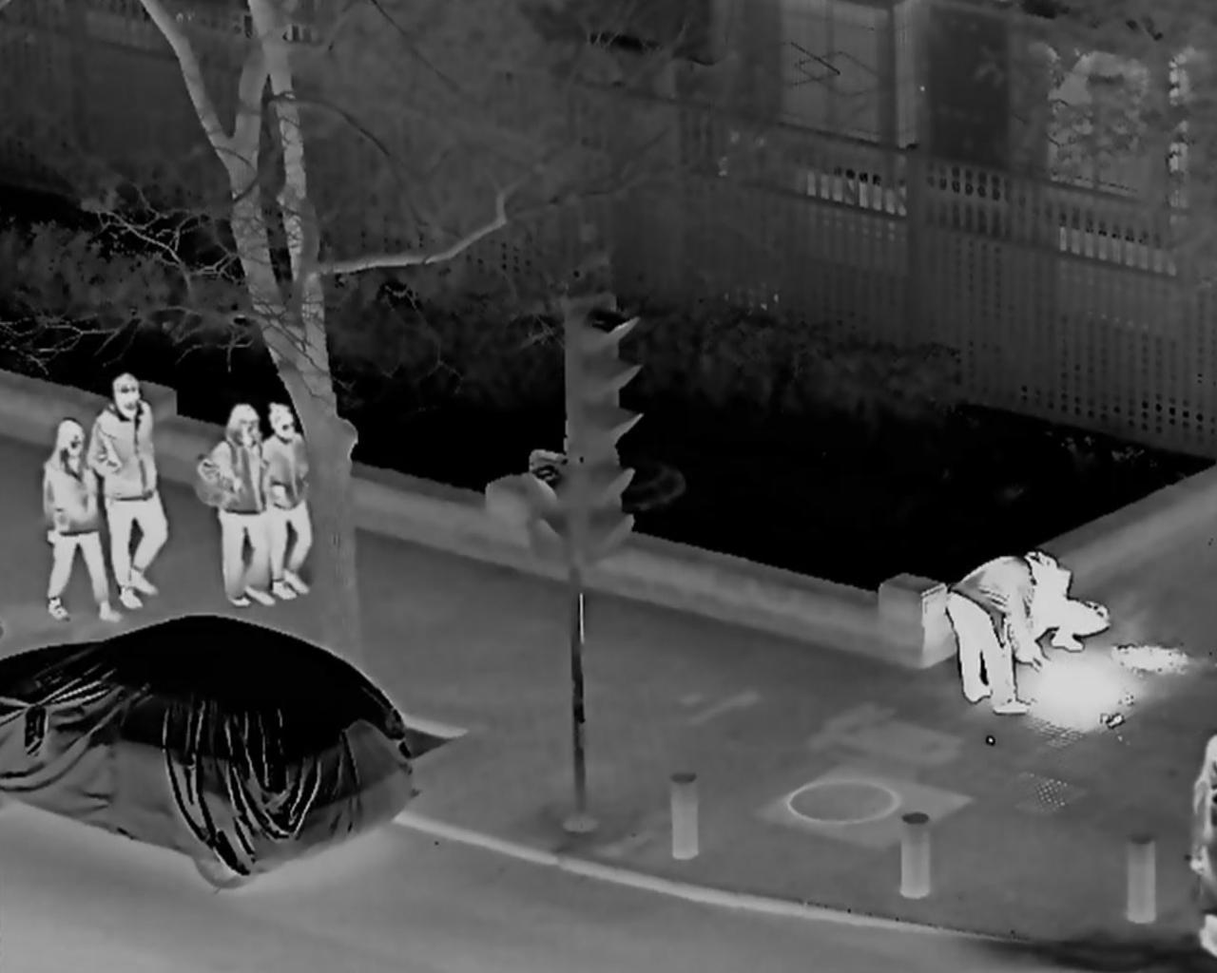person: (87, 369, 164, 605), (939, 550, 1049, 714), (38, 420, 119, 627), (196, 401, 274, 605), (250, 404, 316, 596), (1006, 551, 1108, 665), (1187, 732, 1217, 954)
